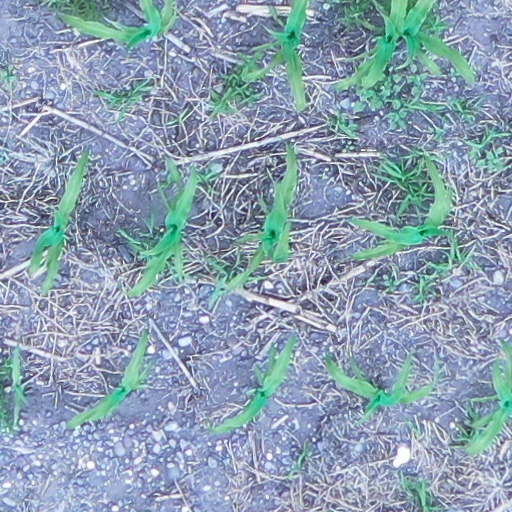planta: (346, 155, 454, 262), (224, 138, 297, 294), (120, 159, 198, 297), (26, 148, 89, 295), (65, 329, 156, 429), (203, 335, 295, 433), (325, 351, 438, 425), (11, 345, 29, 426)
